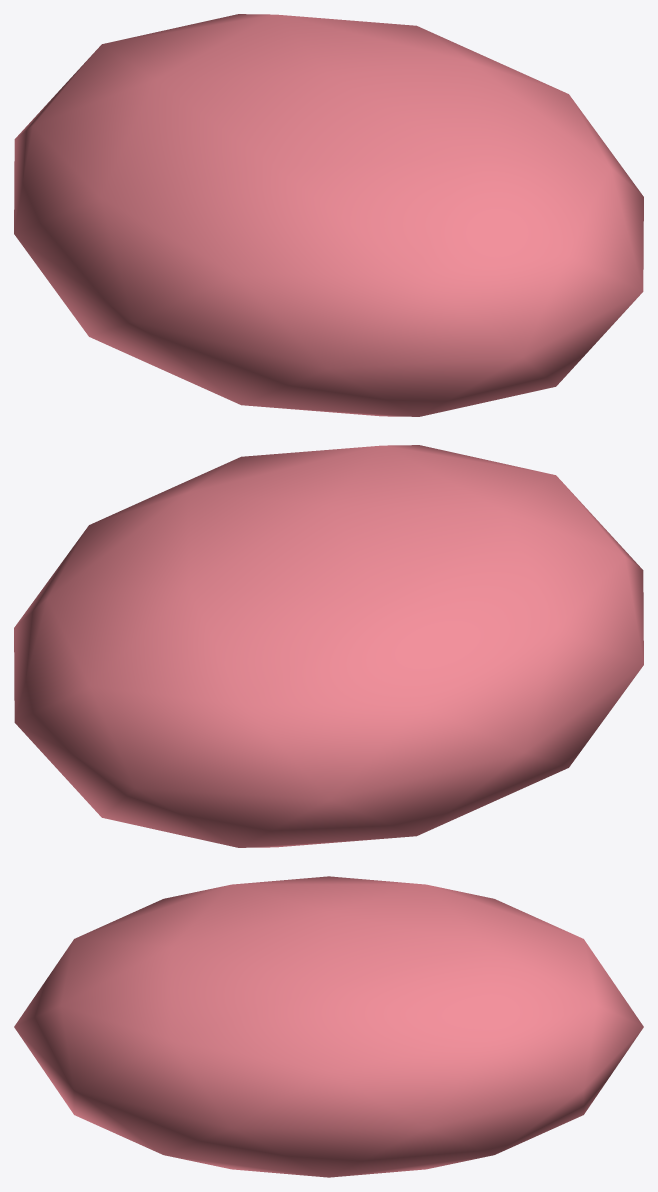
File: creature.smile.glb
3 views of the same model, one above another, from view 1: azimuth 30°, elevation 25°; view 2: azimuth 150°, elevation 25°; view 3: azimuth 270°, elevation 25° (orthographic). The views are drawn at different scales.
Parts seen in each view (by area): view 1: Gill; view 2: Gill; view 3: Gill.
Boxes of the visible parts, box(x1,y1,x2,y2) form: Gill: box(14, 14, 643, 416); Gill: box(14, 445, 643, 847); Gill: box(14, 876, 643, 1177).
Size of the model in its own units: 0.2283 by 0.12 by 0.3.
